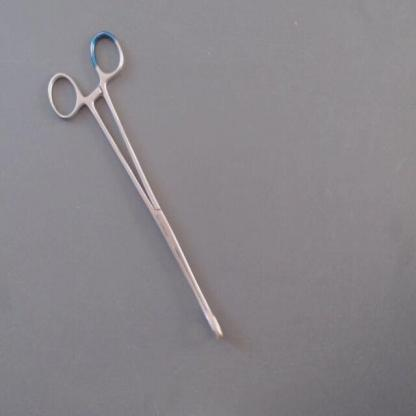Sponge Forceps: (40, 19, 235, 355)
